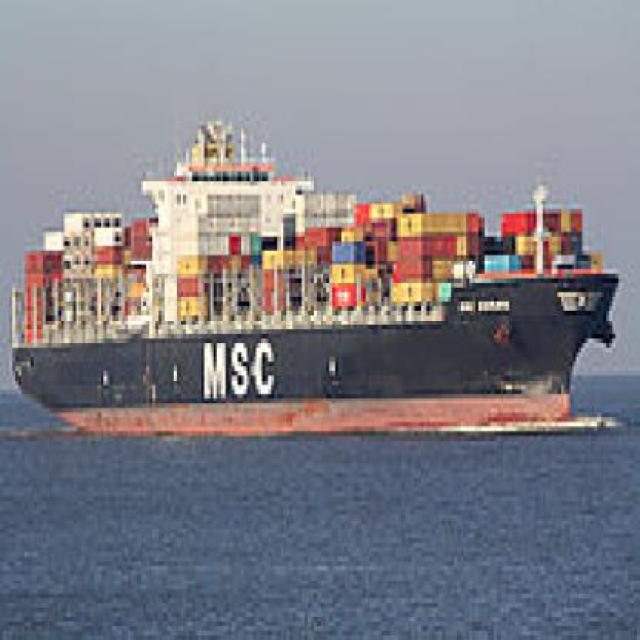container: (10, 103, 626, 451)
